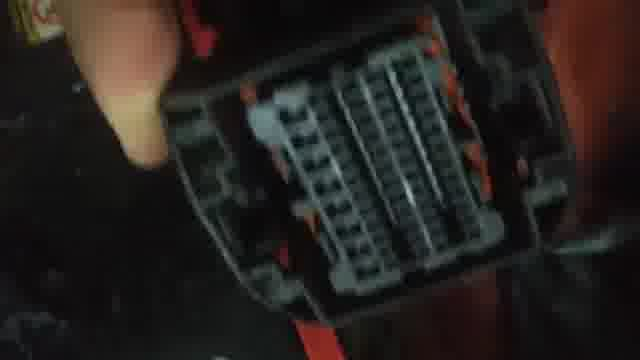connector: (160, 6, 543, 325)
